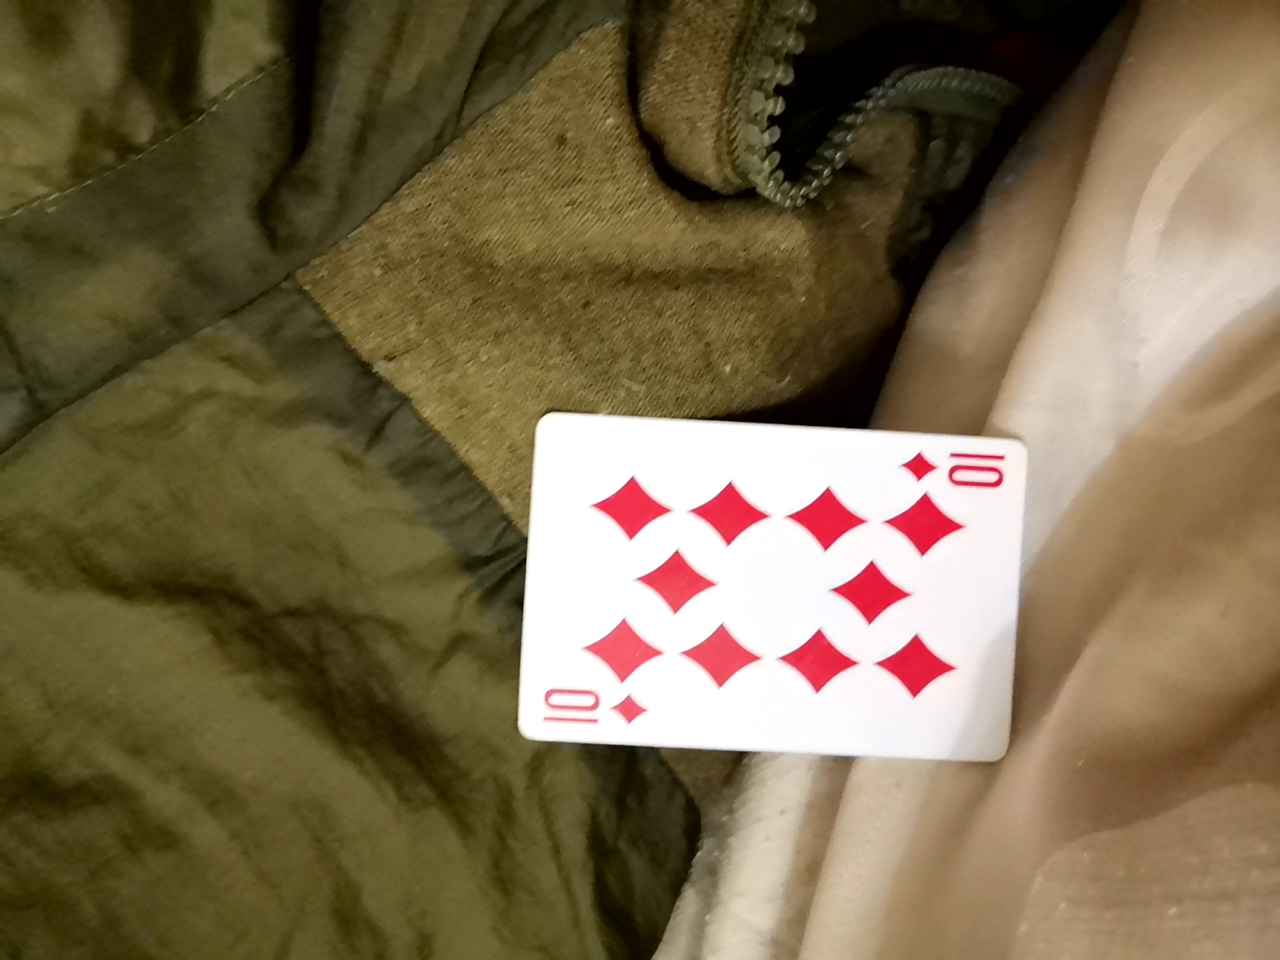fk 10: (512, 418, 1013, 767)
